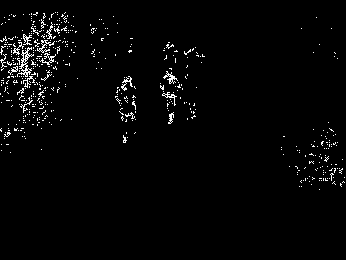person: (116, 74, 139, 144), (159, 67, 181, 125)
